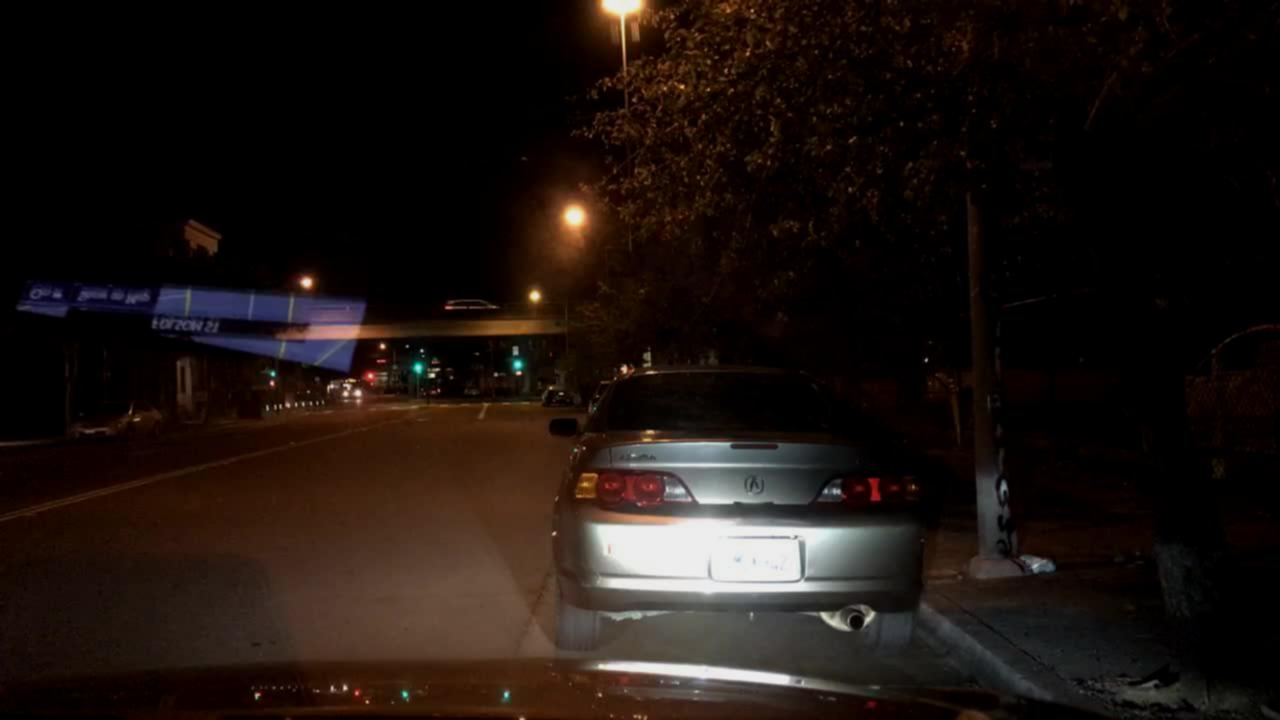acura: (733, 466, 775, 500)
